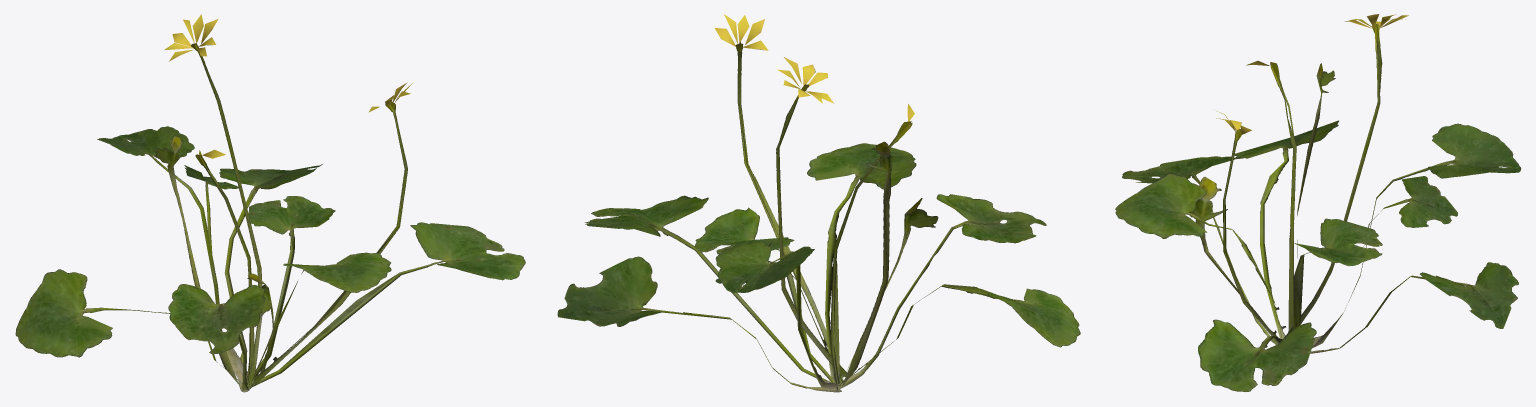
The model's file is celandine.glb.
3 views of the same model, side by side, from view 1: azimuth 30°, elevation 25°; view 2: azimuth 150°, elevation 25°; view 3: azimuth 270°, elevation 25° (orthographic). The views are drawn at different scales.
Parts seen in each view (by area): view 1: lod1; view 2: lod1; view 3: lod1.
Boxes of the visible parts, x1,y1,x2,y2 form: lod1: [15, 14, 525, 392]; lod1: [557, 14, 1080, 392]; lod1: [1115, 14, 1521, 391].
Size of the model in its own units: 0.4393 by 0.2985 by 0.3184.
Materials: 1 (1 with a texture image).
